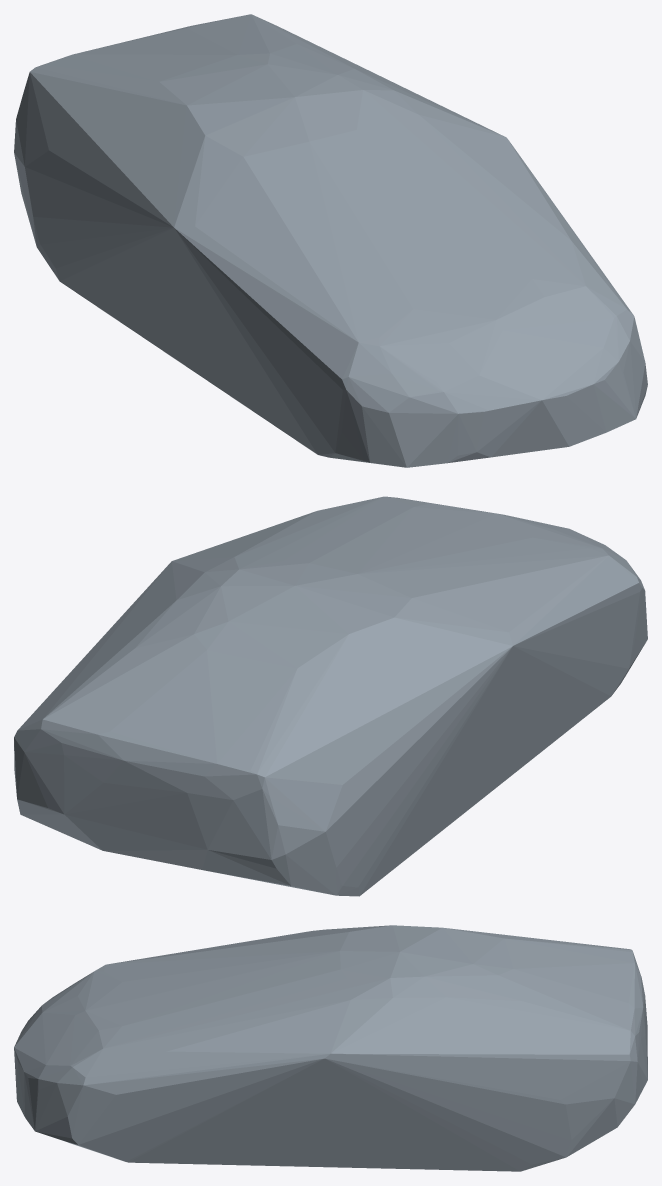
File: sport-coupe-collision.glb
3 views of the same model, one above another, from view 1: azimuth 30°, elevation 25°; view 2: azimuth 150°, elevation 25°; view 3: azimuth 270°, elevation 25° (orthographic). The views are drawn at different scales.
Parts seen in each view (by area): view 1: sport-coupe_collision; view 2: sport-coupe_collision; view 3: sport-coupe_collision.
Part boxes in pixels (x1,y1,x2,y2): sport-coupe_collision: [14, 14, 647, 467]; sport-coupe_collision: [14, 496, 647, 896]; sport-coupe_collision: [14, 925, 647, 1171].
Bounding box in the file's own units: 2.18 × 1.29 × 4.52.
